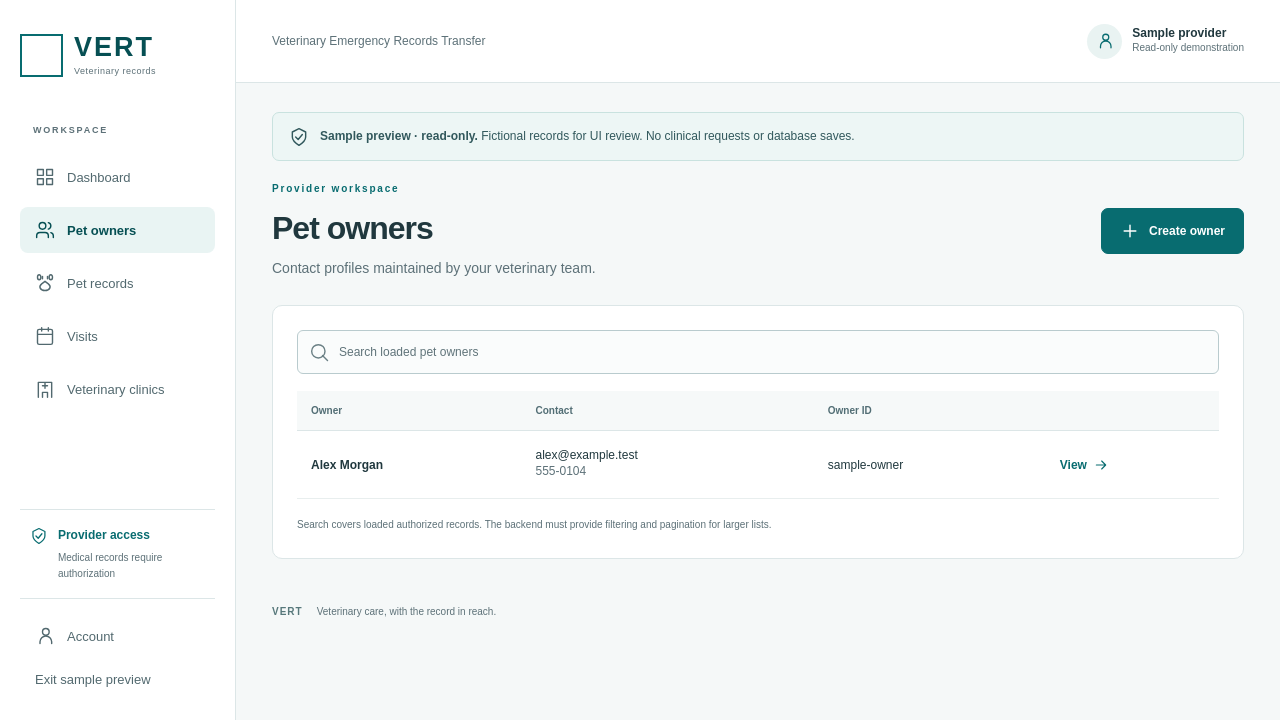
Test case: provider navigation and integration states › filters sample owner lists and shows empty search results
This screenshot has width=1280, height=720.
Check: the link named "View Alex Morgan" is shown, box [1060, 457, 1109, 473]
Type "missing" into the search field.
click(758, 352); type("missing")  # box [297, 330, 1219, 374]
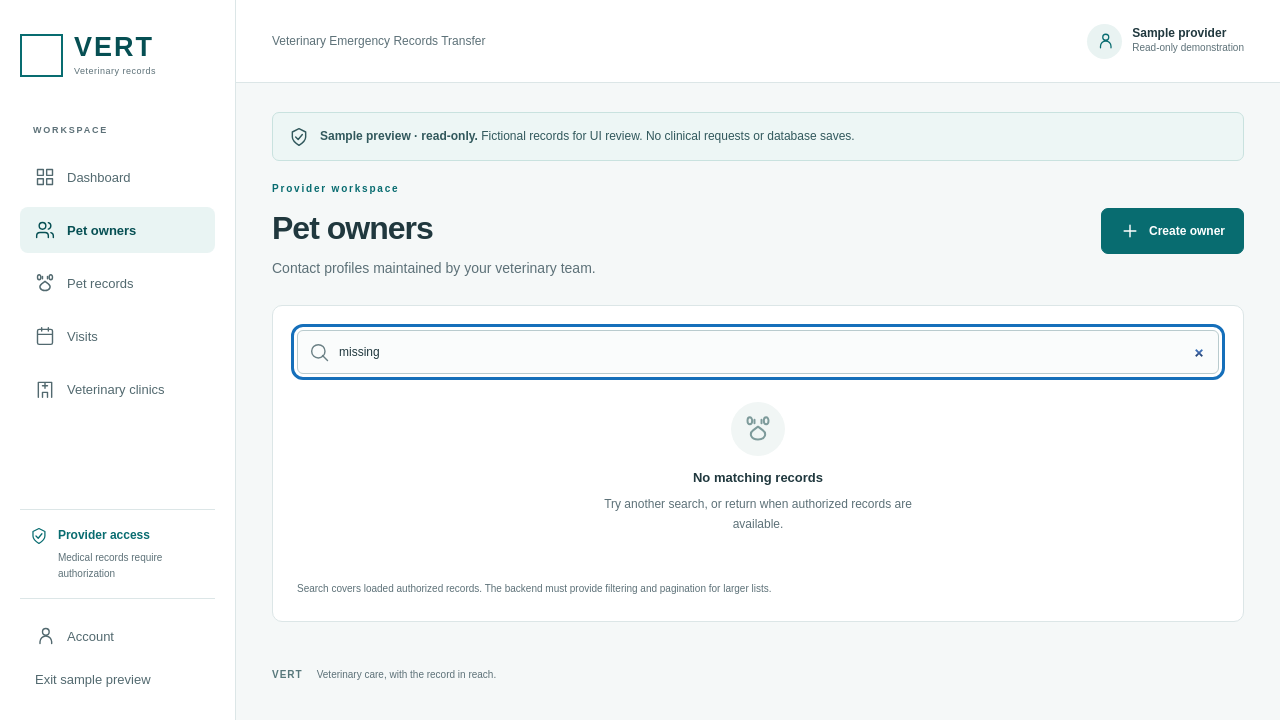
Check: the heading "No matching records" is shown, box [693, 470, 823, 485]
